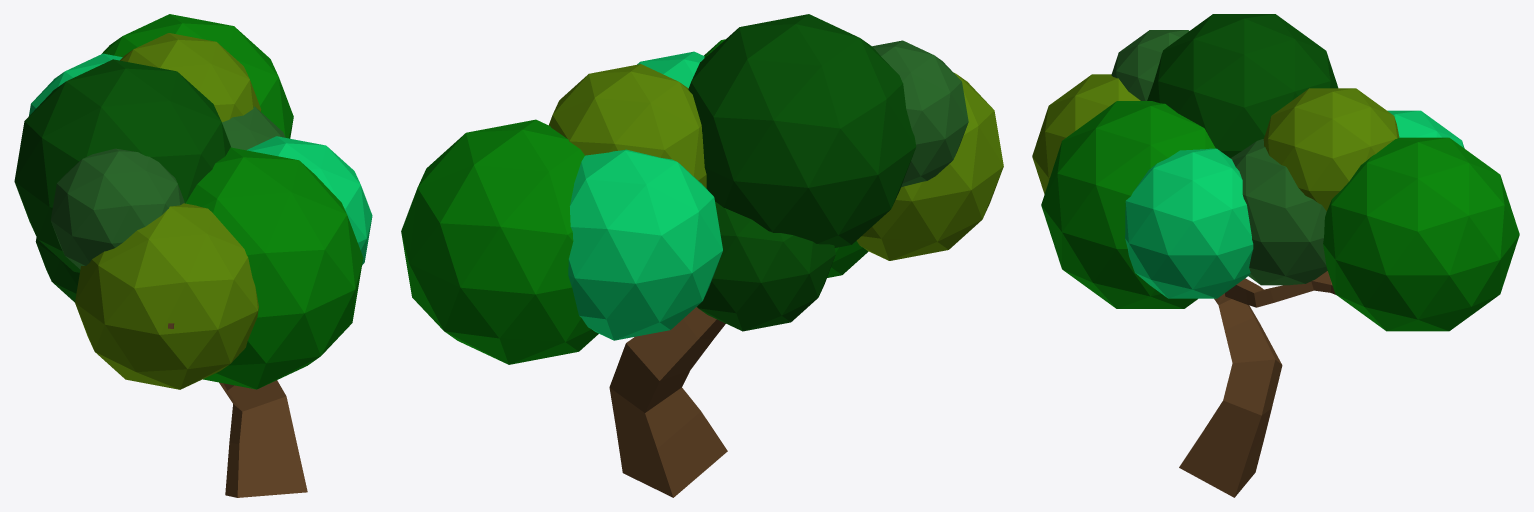
Rendered from FluffyTree.fbx.
3 views of the same model, side by side, from view 1: azimuth 30°, elevation 25°; view 2: azimuth 150°, elevation 25°; view 3: azimuth 270°, elevation 25° (orthographic). The views are drawn at different scales.
Parts seen in each view (by area): view 1: Icosphere.002, Icosphere.004, Icosphere.003, Icosphere, Cube, Icosphere.001, Icosphere.012, Icosphere.013, Icosphere.014, Icosphere.015, Icosphere.011; view 2: Icosphere.003, Icosphere.012, Icosphere.011, Cube, Icosphere.001, Icosphere.004, Icosphere.015, Icosphere, Icosphere.013, Icosphere.002; view 3: Icosphere.012, Icosphere.002, Icosphere.003, Icosphere.013, Cube, Icosphere.001, Icosphere.014, Icosphere.004, Icosphere, Icosphere.011.
Boxes of the visible parts, left/top/right/bottom form: Icosphere.002: left=185, top=147, right=363, bottom=389; Icosphere.004: left=75, top=203, right=258, bottom=389; Icosphere.003: left=14, top=59, right=230, bottom=272; Icosphere: left=50, top=148, right=184, bottom=269; Cube: left=168, top=323, right=307, bottom=497; Icosphere.001: left=120, top=33, right=261, bottom=122; Icosphere.012: left=102, top=14, right=293, bottom=138; Icosphere.013: left=247, top=136, right=372, bottom=265; Icosphere.014: left=222, top=106, right=285, bottom=150; Icosphere.015: left=35, top=237, right=79, bottom=302; Icosphere.011: left=29, top=53, right=122, bottom=115; Icosphere.003: left=688, top=14, right=916, bottom=247; Icosphere.012: left=401, top=119, right=598, bottom=364; Icosphere.011: left=568, top=149, right=722, bottom=340; Cube: left=609, top=307, right=727, bottom=497; Icosphere.001: left=548, top=64, right=706, bottom=188; Icosphere.004: left=856, top=72, right=1003, bottom=260; Icosphere.015: left=697, top=201, right=835, bottom=331; Icosphere: left=872, top=40, right=968, bottom=187; Icosphere.013: left=637, top=51, right=704, bottom=88; Icosphere.002: left=704, top=39, right=868, bottom=277; Icosphere.012: left=1323, top=137, right=1519, bottom=331; Icosphere.002: left=1041, top=101, right=1215, bottom=308; Icosphere.003: left=1147, top=14, right=1338, bottom=158; Icosphere.013: left=1125, top=148, right=1253, bottom=298; Cube: left=1179, top=271, right=1335, bottom=497; Icosphere.001: left=1263, top=88, right=1399, bottom=211; Icosphere.014: left=1230, top=139, right=1327, bottom=285; Icosphere.004: left=1032, top=74, right=1140, bottom=193; Icosphere: left=1111, top=30, right=1189, bottom=100; Icosphere.011: left=1387, top=110, right=1464, bottom=148.
Bounding box in the file's own units: 634 × 782 × 847.
